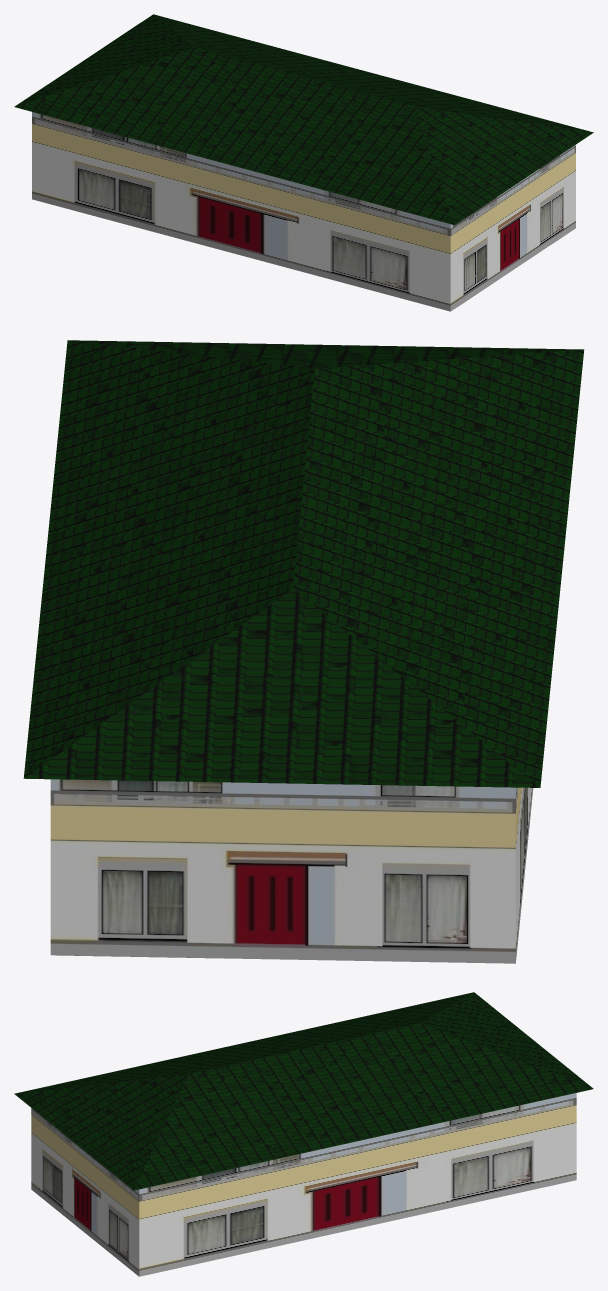
3 renders of one model, top to bottom at view 1: azimuth 30°, elevation 25°; view 2: azimuth 150°, elevation 25°; view 3: azimuth 270°, elevation 25°, orthographic. The views are drawn at different scales.
Visible parts, largest first — view 1: CityEngineMaterial_13_m, CityEngineMaterial_15_m; view 2: CityEngineMaterial_13_m, CityEngineMaterial_15_m; view 3: CityEngineMaterial_13_m, CityEngineMaterial_15_m.
Boxes of the visible parts, box(x1,y1,x2,y2) form: CityEngineMaterial_13_m: box(14, 14, 593, 224); CityEngineMaterial_15_m: box(32, 112, 575, 311); CityEngineMaterial_13_m: box(23, 340, 584, 787); CityEngineMaterial_15_m: box(50, 779, 533, 963); CityEngineMaterial_13_m: box(14, 992, 593, 1190); CityEngineMaterial_15_m: box(31, 1093, 576, 1276).
Bounding box in the file's own units: 34.26 × 10.96 × 42.3.
